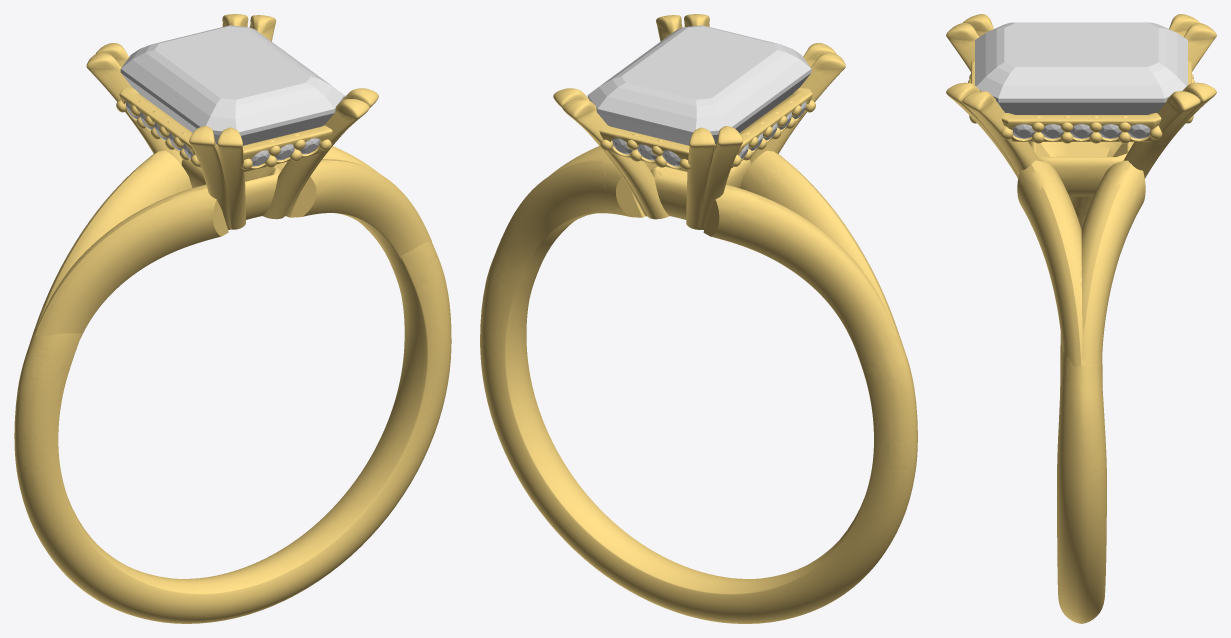
File: CamSplitYG_blender.glb
3 views of the same model, side by side, from view 1: azimuth 30°, elevation 25°; view 2: azimuth 150°, elevation 25°; view 3: azimuth 270°, elevation 25° (orthographic).
Visible parts, largest first — view 1: V4 Cam split band YG for 3d model, V4 Cam split band dia for 3d model.016; view 2: V4 Cam split band YG for 3d model, V4 Cam split band dia for 3d model.016; view 3: V4 Cam split band YG for 3d model, V4 Cam split band dia for 3d model.016.
Part boxes in pixels (box(x1,y1,x2,y2)): V4 Cam split band YG for 3d model: box(14, 14, 451, 623); V4 Cam split band dia for 3d model.016: box(120, 25, 344, 145); V4 Cam split band YG for 3d model: box(480, 14, 917, 623); V4 Cam split band dia for 3d model.016: box(587, 25, 811, 145); V4 Cam split band YG for 3d model: box(946, 14, 1216, 623); V4 Cam split band dia for 3d model.016: box(975, 22, 1187, 114).
Size of the model in its own units: 20 by 24.44 by 10.8.
